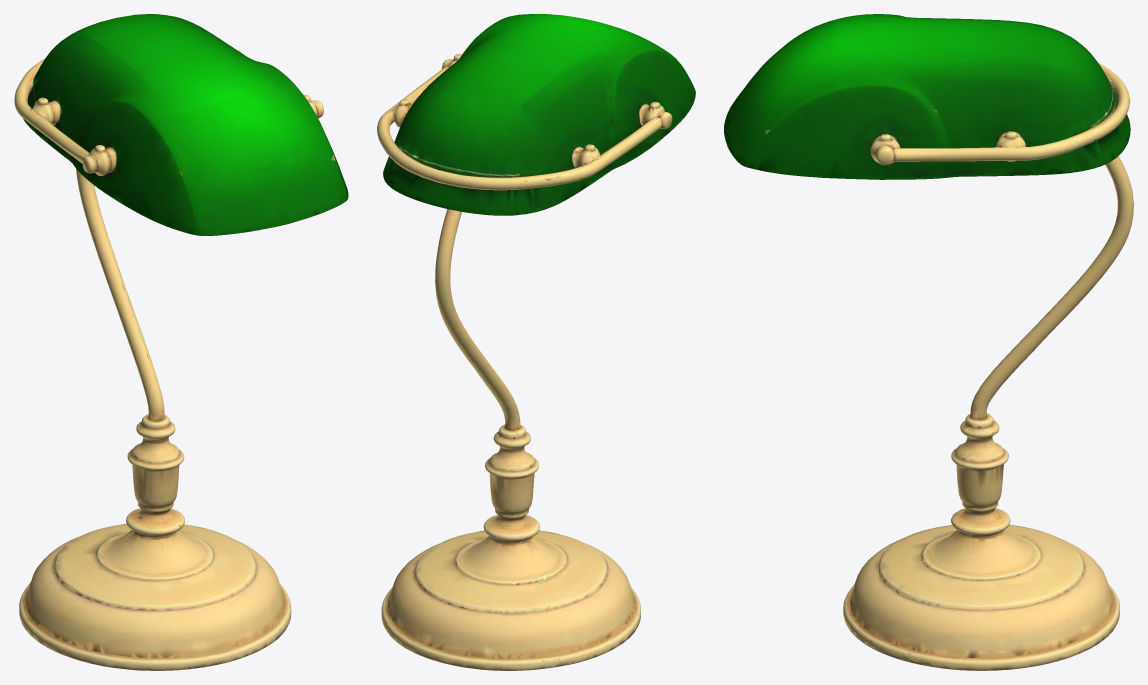
The model's file is desk_lamp.glb.
3 renders of one model, left to right at view 1: azimuth 30°, elevation 25°; view 2: azimuth 150°, elevation 25°; view 3: azimuth 270°, elevation 25°, orthographic. The views are drawn at different scales.
Parts seen in each view (by area): view 1: desk_lamp; view 2: desk_lamp; view 3: desk_lamp.
Part boxes in pixels (bbox=[...]): desk_lamp: bbox=[14, 14, 348, 670]; desk_lamp: bbox=[377, 14, 695, 670]; desk_lamp: bbox=[724, 14, 1133, 670].
Size of the model in its own units: 0.1452 by 0.34 by 0.2187.
1 material, 1 textured.
